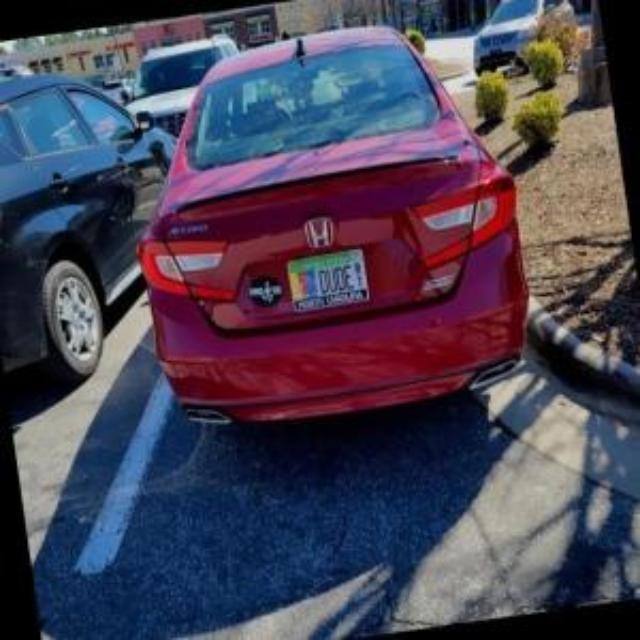License Plate: (286, 247, 370, 313)
